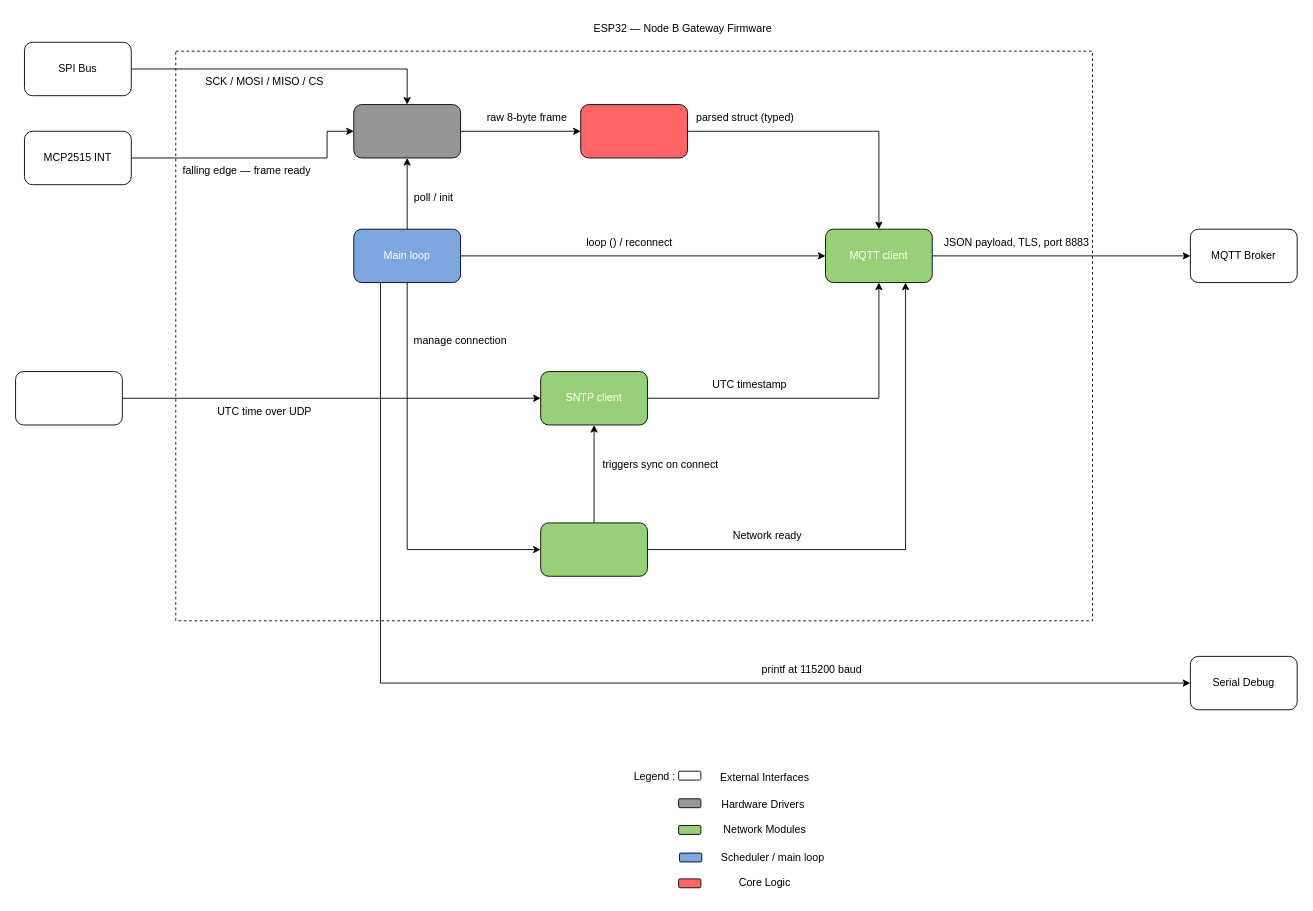
Image size: 1313x911. Some labels were removed from this diagram. Each missing label, with the centre of its shape:
"CAN parser" goes at (x=634, y=131).
"MCP2515 driver" goes at (x=407, y=131).
"SNTP server" goes at (x=68, y=398).
"WiFi Manager" goes at (x=593, y=549).
